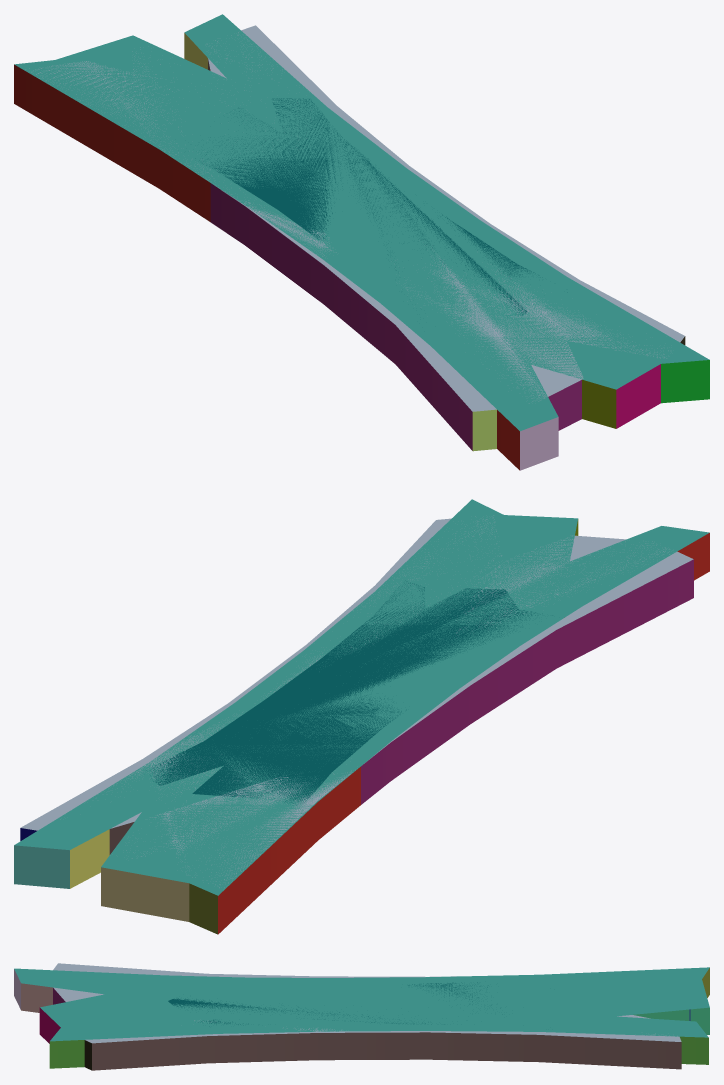
The model's file is Shards.fbx.
3 views of the same model, one above another, from view 1: azimuth 30°, elevation 25°; view 2: azimuth 150°, elevation 25°; view 3: azimuth 270°, elevation 25° (orthographic). The views are drawn at different scales.
Visible parts, largest first — view 1: Shard1, Shard2, Shard3; view 2: Shard1, Shard3, Shard2; view 3: Shard1, Shard2, Shard3.
Boxes of the visible parts, left/top/right/bottom form: Shard1: left=14, top=14, right=709, bottom=470; Shard2: left=25, top=25, right=685, bottom=451; Shard3: left=195, top=98, right=567, bottom=315; Shard1: left=14, top=499, right=709, bottom=934; Shard3: left=146, top=580, right=552, bottom=805; Shard2: left=20, top=515, right=693, bottom=887; Shard1: left=14, top=967, right=709, bottom=1068; Shard2: left=53, top=963, right=690, bottom=1070; Shard3: left=168, top=982, right=502, bottom=1026.
Size of the model in its own units: 83.61 by 13.28 by 307.
